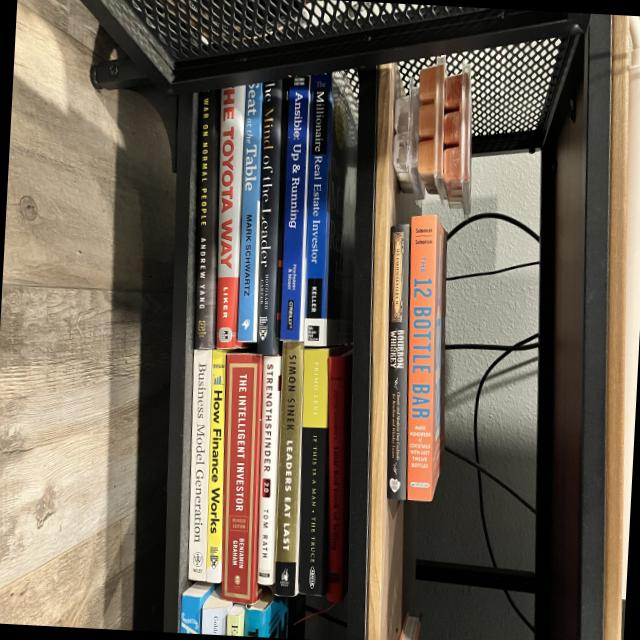book: (302, 71, 359, 348), (404, 215, 447, 501), (292, 348, 337, 596), (220, 353, 262, 604), (255, 80, 285, 356), (279, 77, 310, 342), (215, 85, 245, 349), (273, 342, 304, 597), (323, 348, 352, 603), (236, 83, 263, 343), (193, 90, 220, 349), (385, 224, 410, 500), (254, 355, 282, 586), (186, 349, 212, 581), (205, 349, 226, 583)
